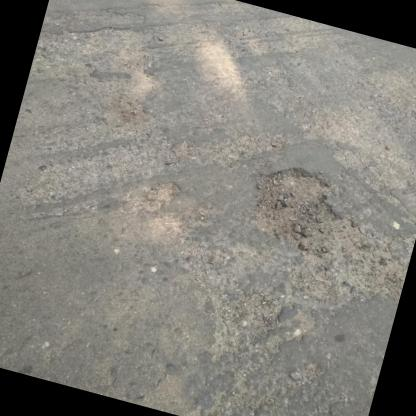pothole: (238, 154, 348, 251), (197, 278, 288, 372), (140, 174, 184, 218)
